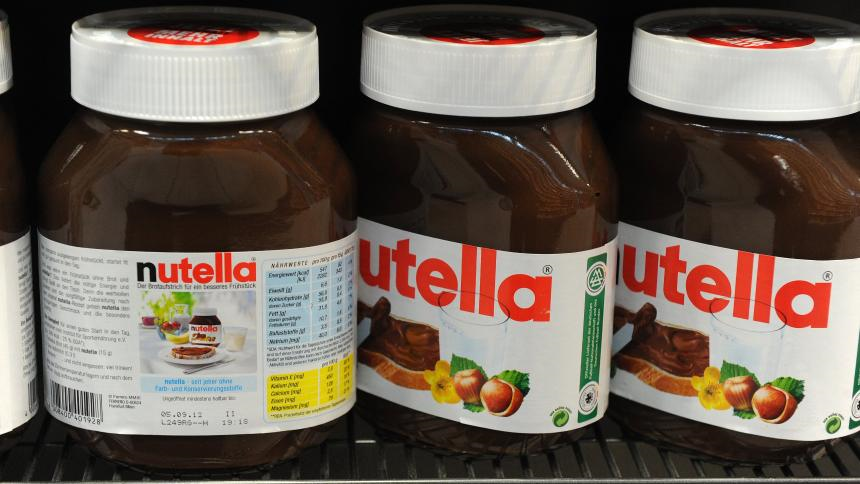nutella: (39, 4, 356, 476), (357, 3, 617, 468), (616, 5, 859, 467)
